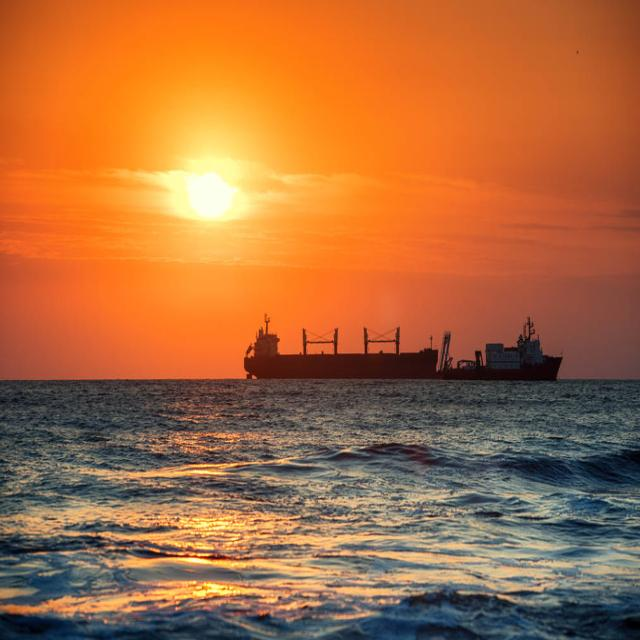cargoship: (237, 302, 576, 409)
